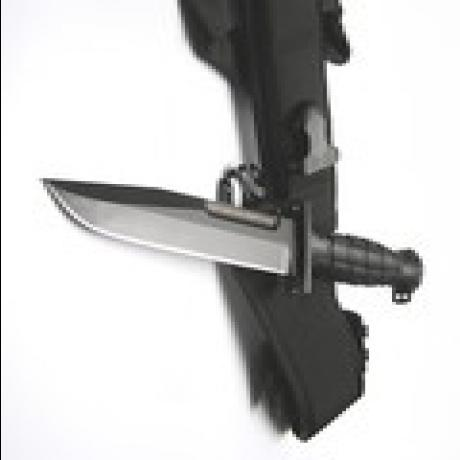weapon: (29, 155, 439, 307)
